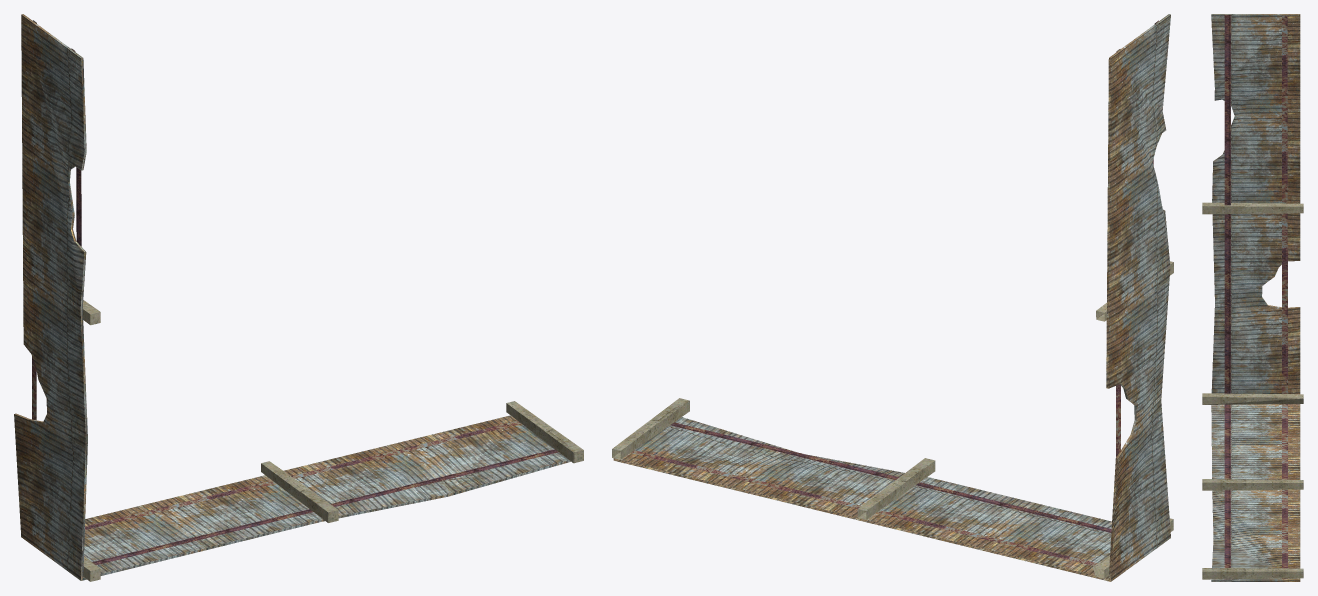
The model's file is zaun_blech_45grad.obj.
3 renders of one model, left to right at view 1: azimuth 30°, elevation 25°; view 2: azimuth 150°, elevation 25°; view 3: azimuth 270°, elevation 25°, orthographic. The views are drawn at different scales.
Visible parts, largest first — view 1: Object031; view 2: Object031; view 3: Object031.
Boxes of the visible parts, <box> form: Object031: <box>14,14,583,581</box>; Object031: <box>612,14,1173,581</box>; Object031: <box>1202,14,1303,581</box>.
Bounding box in the file's own units: 15.48 × 15.54 × 3.63.
3 materials, 3 textured.
